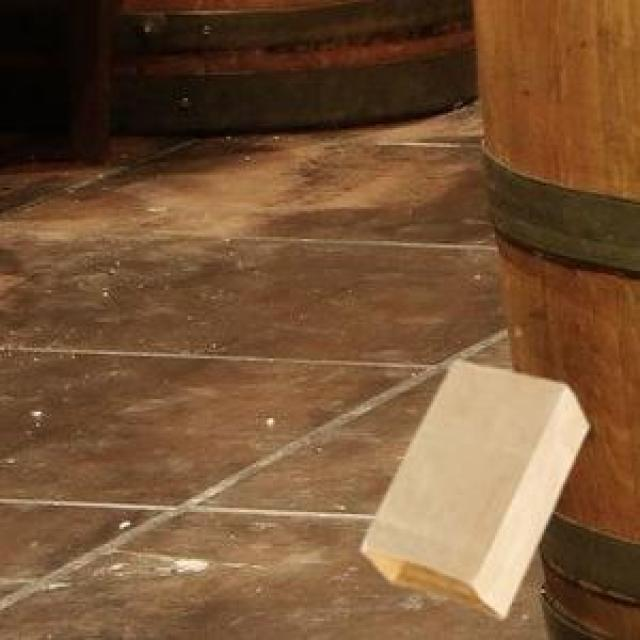paper: (358, 356, 585, 614)
